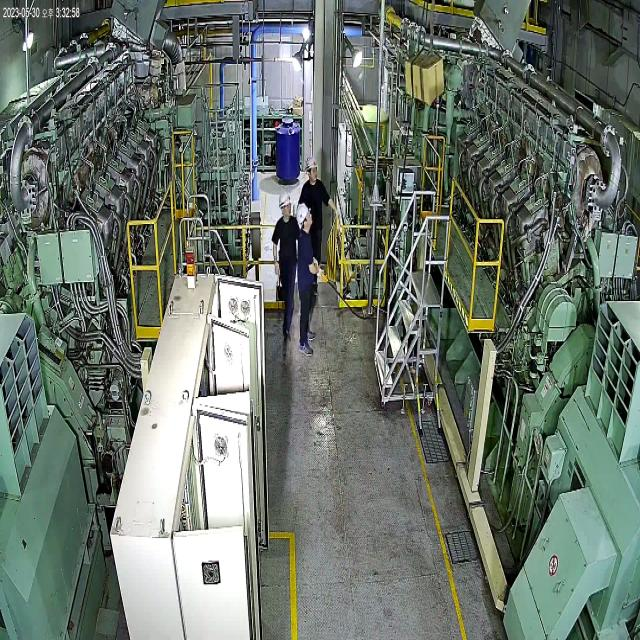Water Tank: (272, 112, 304, 188)
worker: (295, 151, 343, 306), (270, 184, 299, 346), (293, 196, 320, 356)
